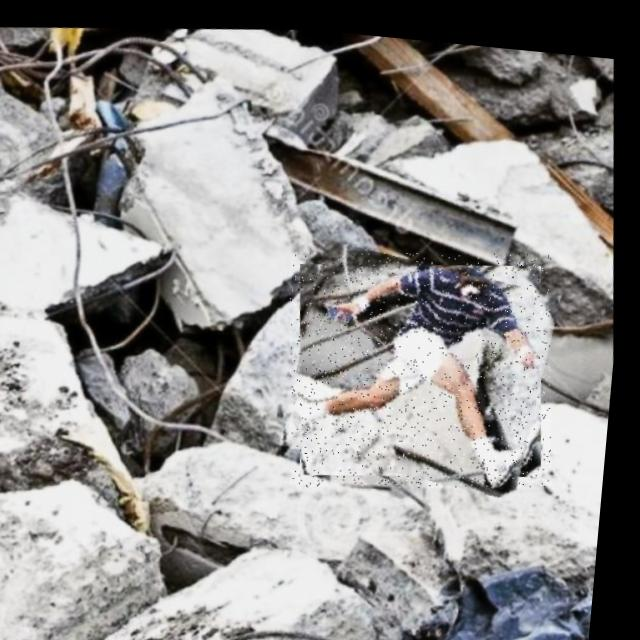Person in Rubble: (278, 222, 575, 500)
